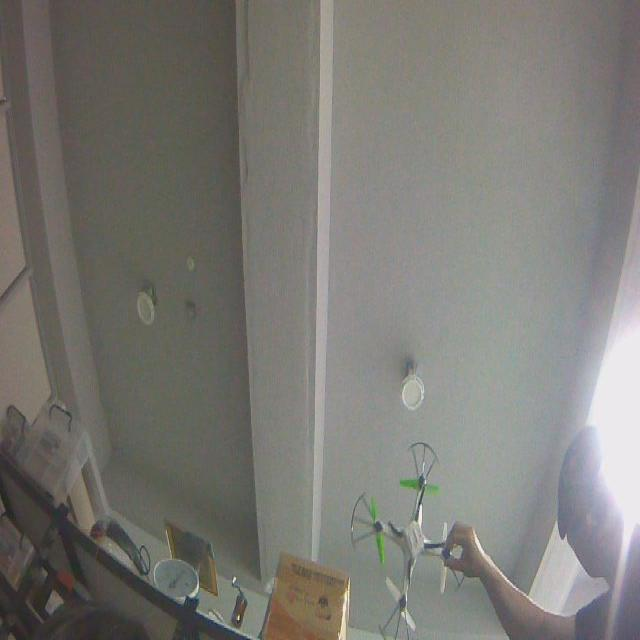drone: (350, 438, 468, 640)
